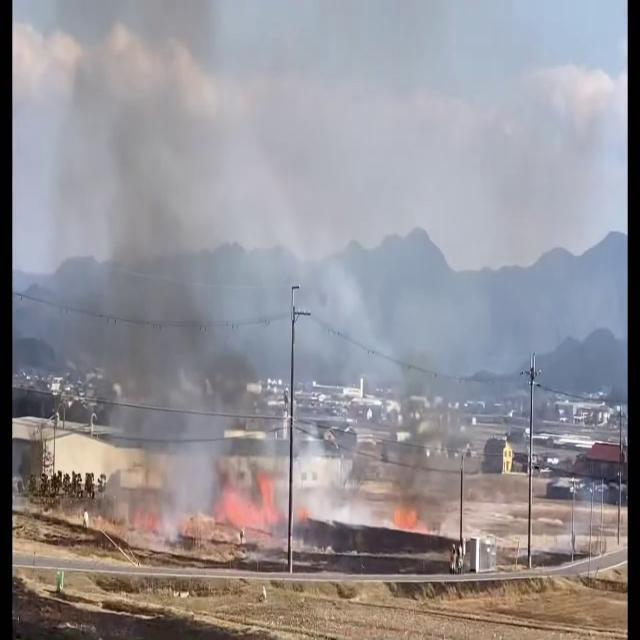Smoke: (50, 47, 600, 540)
